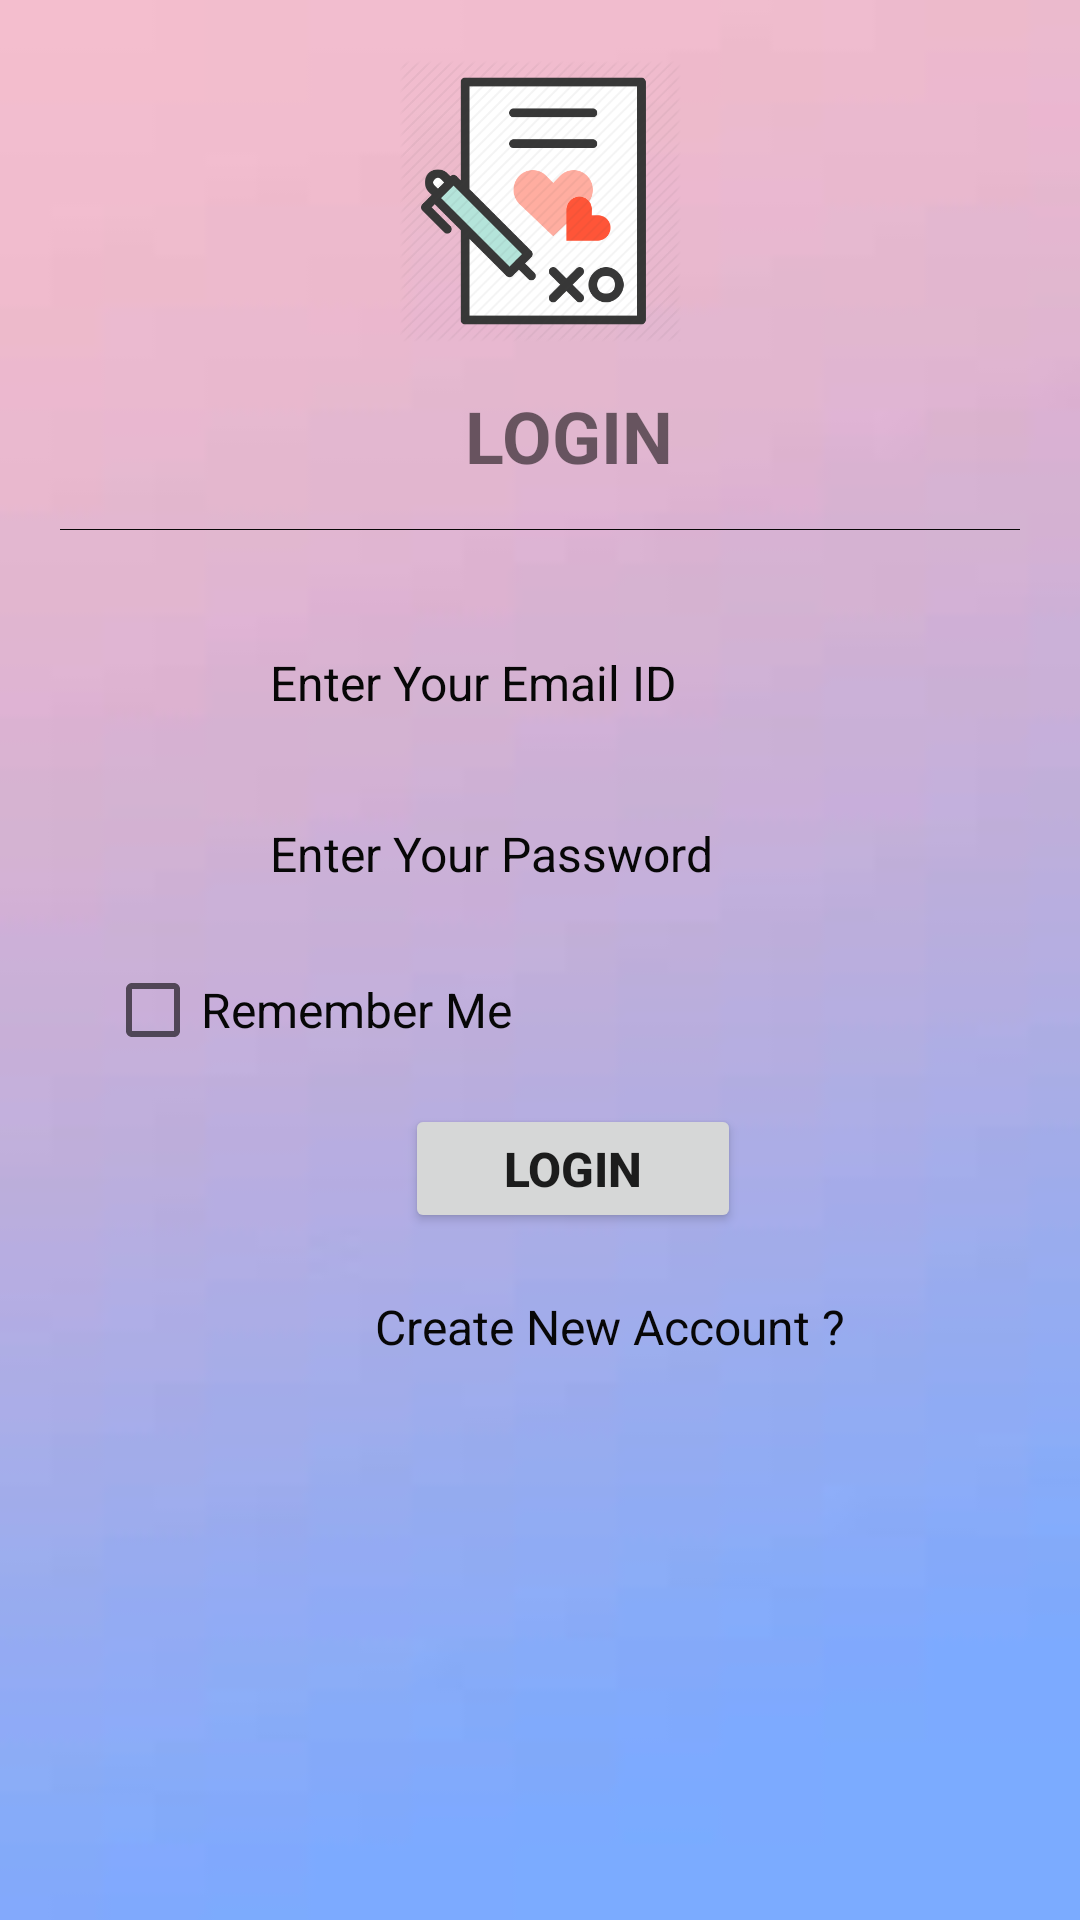

Point at icon controls on the screen. Image size 1080×1920, points as point (x, y).
register: point (533, 201)
